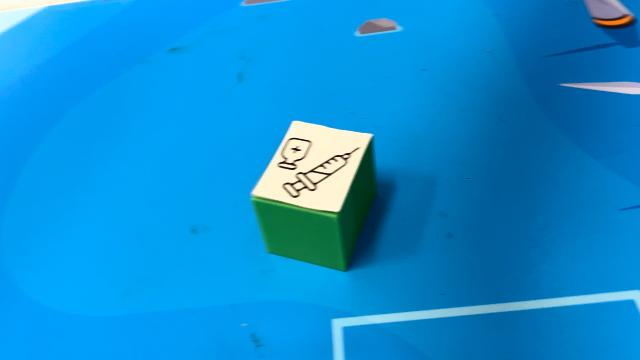syringe: (250, 119, 376, 271)
